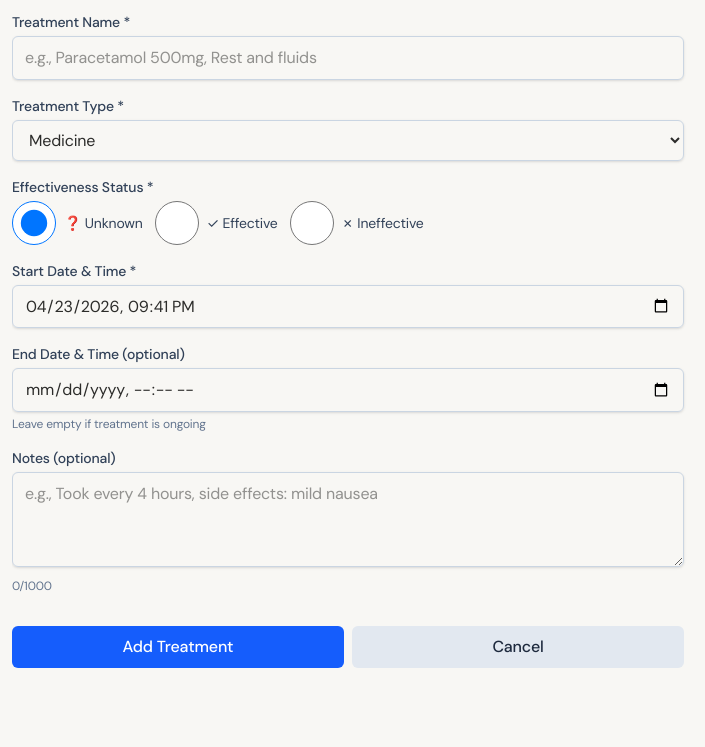
Scenario: TreatmentForm Component › Error Handling › should clear error on input change
Click the button "Add Treatment" at (178, 647), box [12, 626, 344, 668]
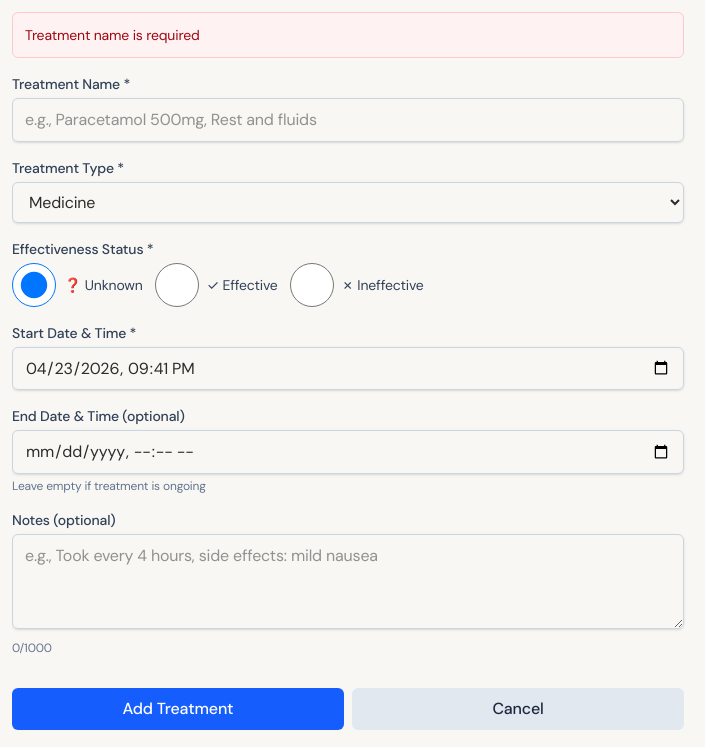
Check: the text "Treatment name is required" is shown, box [25, 26, 200, 44]
Type "Test" into the field labelled "Treatment Name *" at (348, 120), box [12, 98, 684, 142]
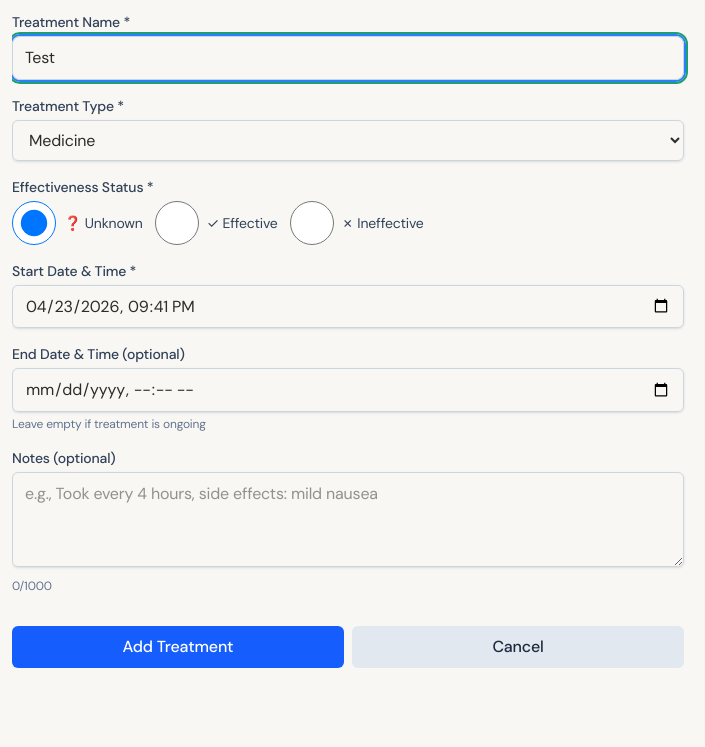
Check: the text "Treatment name is required" is gone
